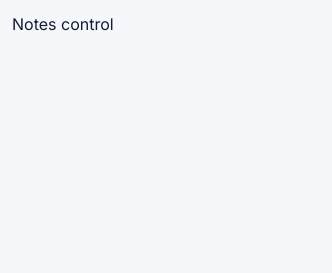
LockedTip accessibility — ARIA tooltip pattern for every LOCKED_FIELD › [{"field":"Notes","note":"Notes are read-only while a blocked attempt is open so they stay in sync with the audited payload."}] focus opens tooltip, aria-descri
# Keyboard focus opens the tooltip (no pointer events needed).
Focus the element showing "Notes control" at (63, 24), box [12, 12, 114, 36]
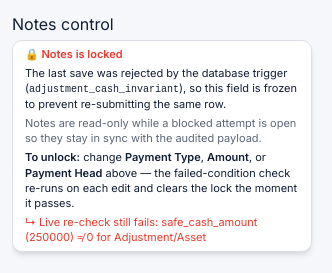
Now the text "adjustment_cash_invariant" is shown, box [29, 84, 179, 95]
Now the text "Notes are read-only while a blocked attempt is open so they stay in sync with the audited payload." is shown, box [25, 116, 296, 145]
Now the text "To unlock:" is shown, box [25, 150, 80, 164]
# Blurring the trigger dismisses the tooltip (Radix default).
Leave the element showing "Notes control", box [12, 12, 114, 36]
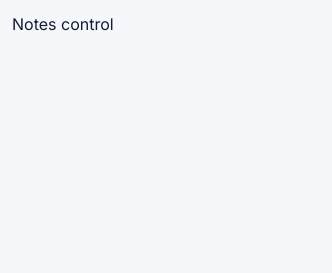
Now the tooltip "🔒 Notes is locked The last save was rejected by the database trigger (adjustmen" is gone
Focus the element showing "Notes control" at (63, 24), box [12, 12, 114, 36]
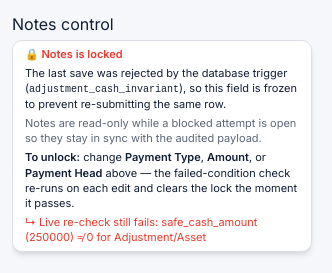
Now the tooltip is shown
Press Escape in the element showing "Notes control", box [12, 12, 114, 36]
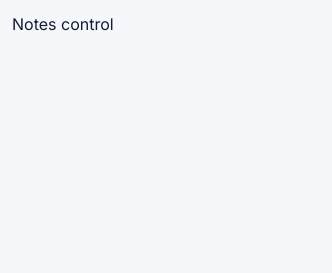
Now the tooltip "🔒 Notes is locked The last save was rejected by the database trigger (adjustmen" is gone
